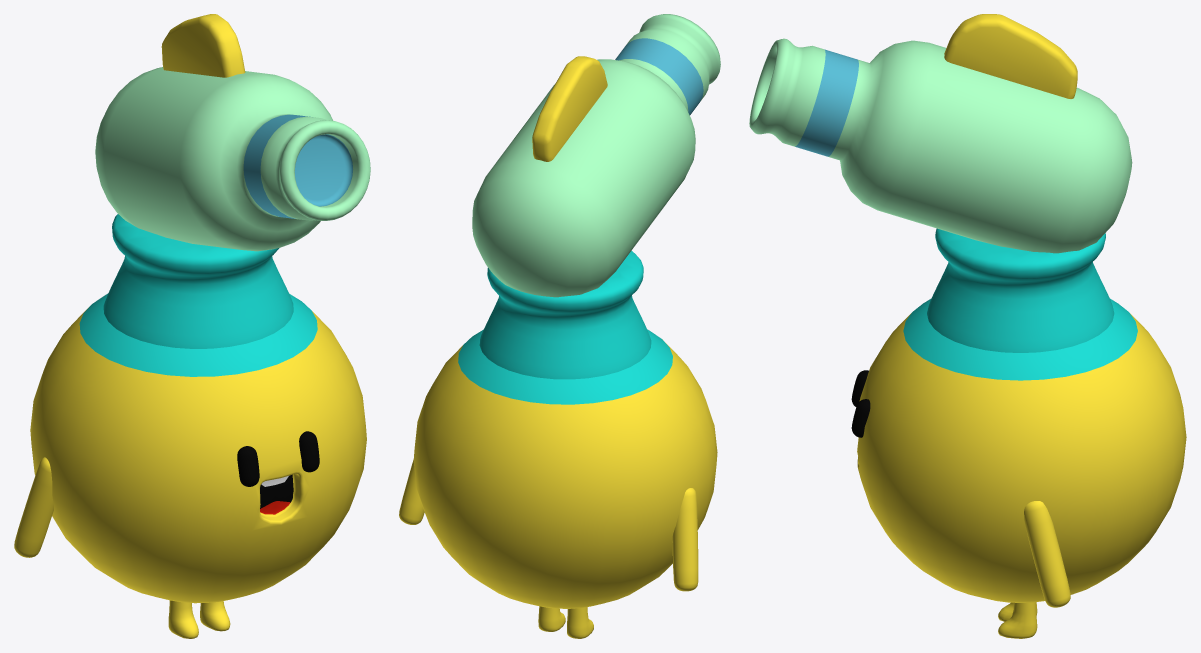
The model's file is 黄色人物.fbx.
3 views of the same model, side by side, from view 1: azimuth 30°, elevation 25°; view 2: azimuth 150°, elevation 25°; view 3: azimuth 270°, elevation 25° (orthographic). The views are drawn at different scales.
Parts seen in each view (by area): view 1: 黄色人物, 黄色人物炮; view 2: 黄色人物, 黄色人物炮; view 3: 黄色人物, 黄色人物炮.
Boxes of the visible parts, <box> form: 黄色人物: <box>14,214,366,638</box>; 黄色人物炮: <box>95,14,370,251</box>; 黄色人物: <box>399,251,717,638</box>; 黄色人物炮: <box>472,14,720,297</box>; 黄色人物: <box>851,228,1186,638</box>; 黄色人物炮: <box>749,14,1132,253</box>.
Size of the model in its own units: 2.86 by 5.18 by 3.35.
